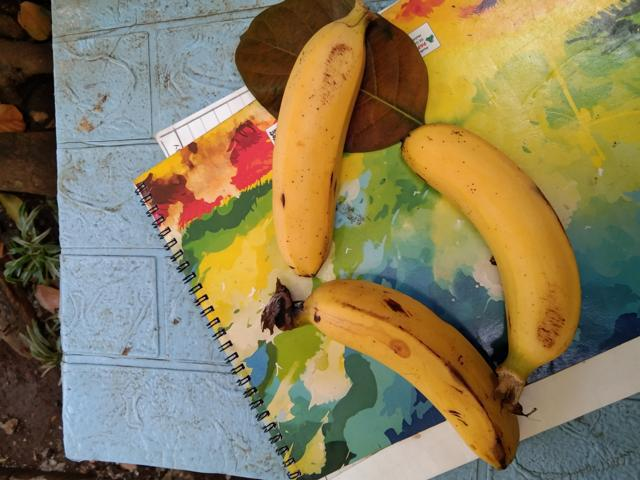freshripe: (255, 7, 390, 279)
ripe: (396, 110, 593, 391), (300, 269, 529, 479)
